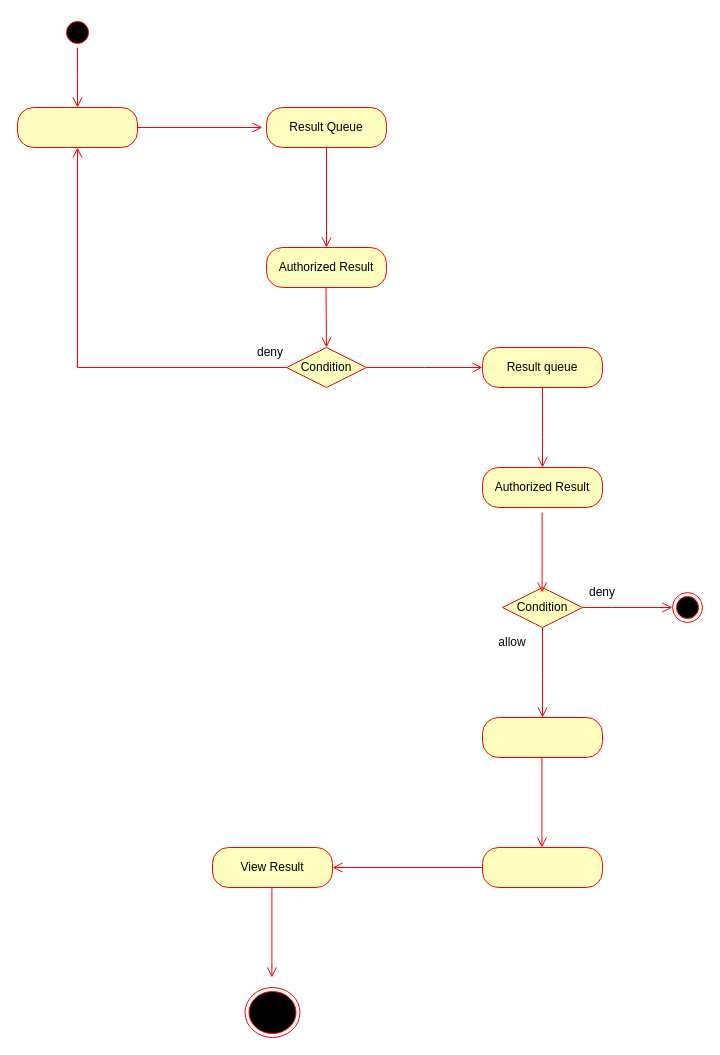
This 720x1055 diagram has some shape labels left out. The shapes that lost their labels are listed below. From the top down, each one's centre as x and y in pixels, then its label:
(77,127): Enter Result
(542,737): Generate Sheet
(542,867): Publish Result
